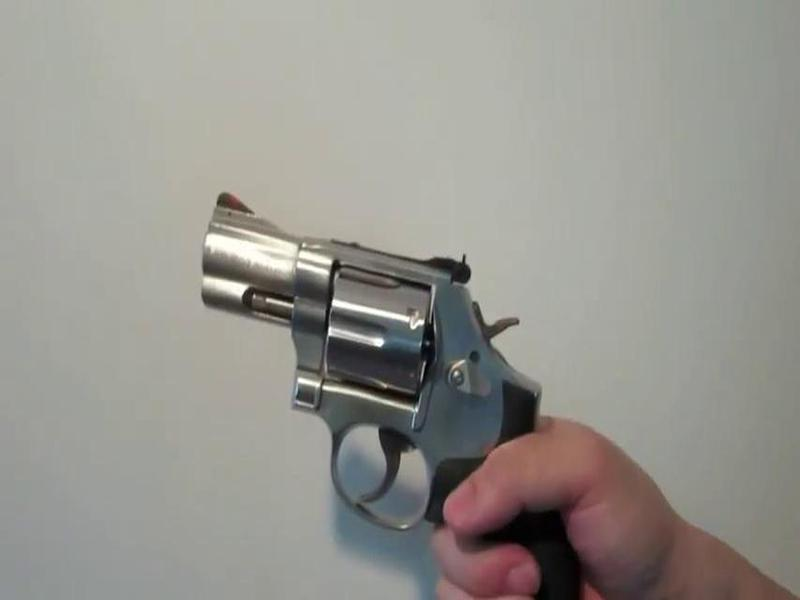Revolver: (134, 174, 622, 600)
